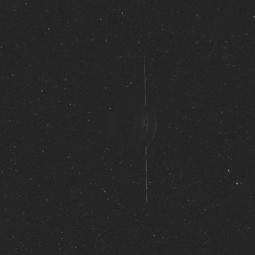double_start: (99, 90, 173, 156)
